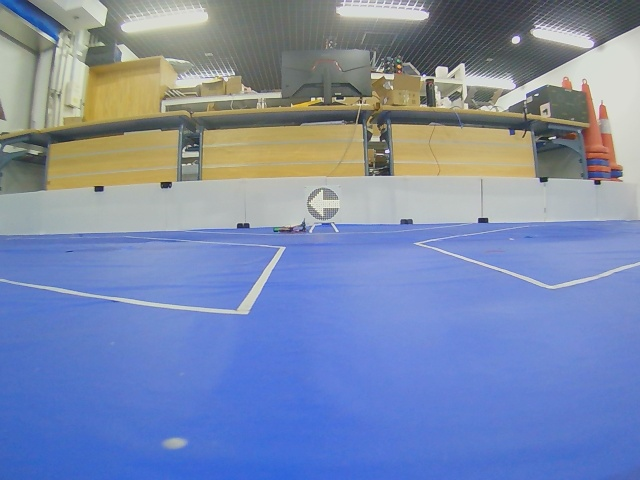left_yellow: (307, 187, 340, 221)
